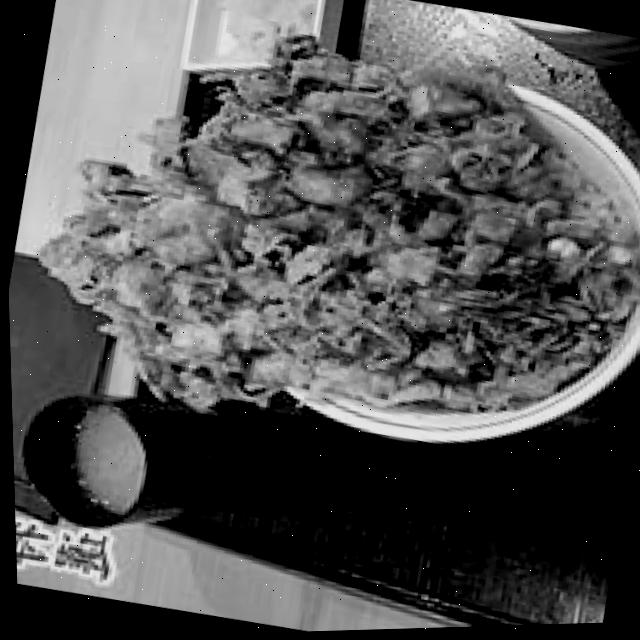汤锅炖物: (8, 345, 182, 555)
熟制海鲜: (0, 0, 640, 503)
